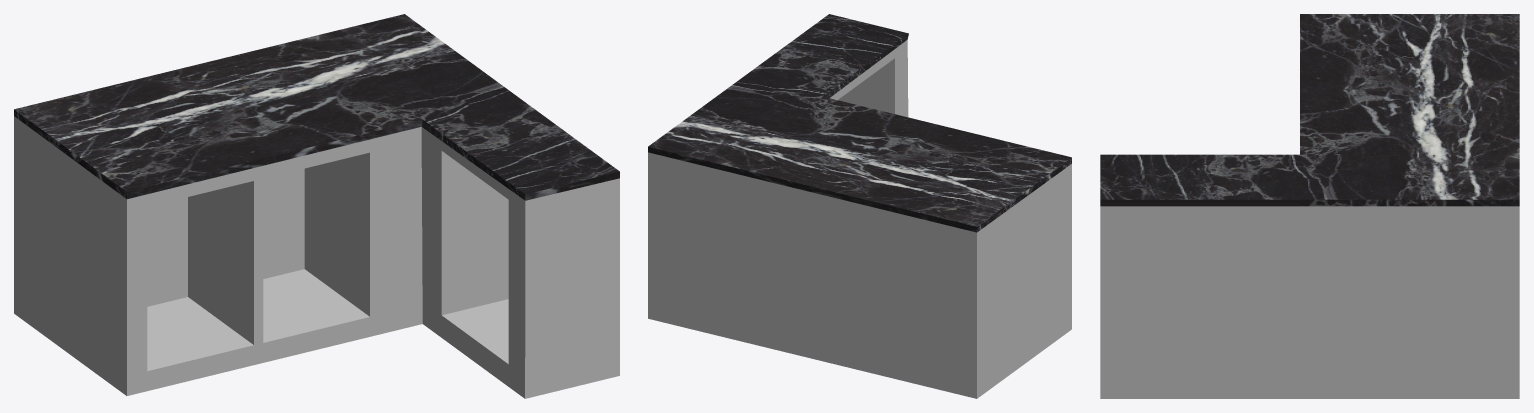
The model's file is keuken2_Hull.fbx.
3 views of the same model, side by side, from view 1: azimuth 30°, elevation 25°; view 2: azimuth 150°, elevation 25°; view 3: azimuth 270°, elevation 25° (orthographic). The views are drawn at different scales.
Parts seen in each view (by area): view 1: Cube; view 2: Cube; view 3: Cube.
Part boxes in pixels (box(x1,y1,x2,y2)): Cube: box(14, 14, 619, 398); Cube: box(648, 14, 1071, 398); Cube: box(1100, 14, 1519, 398).
Bounding box in the file's own units: 200 × 100 × 191.
